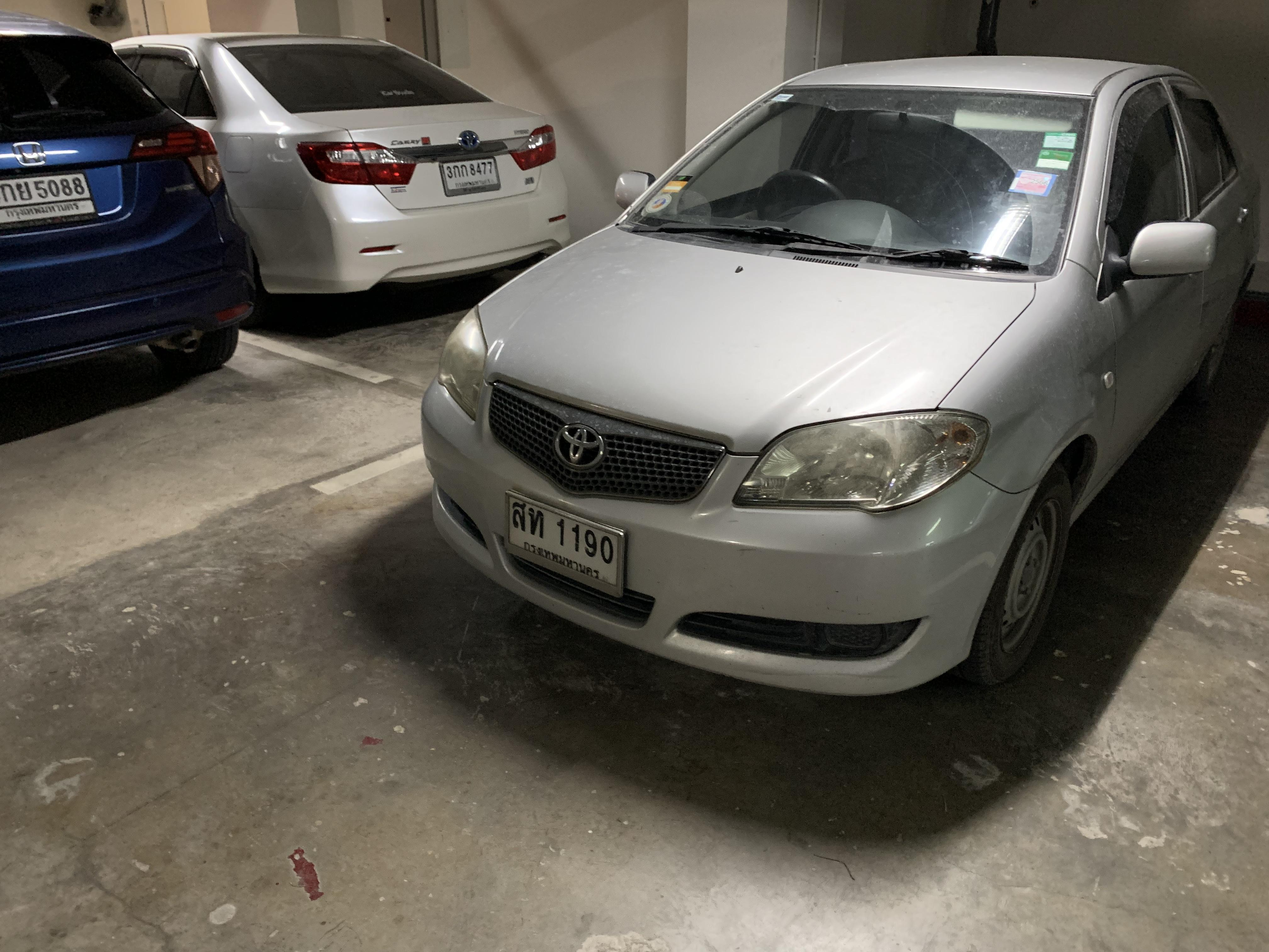license-plate: (499, 485, 631, 603), (0, 167, 101, 235), (439, 153, 503, 198)
